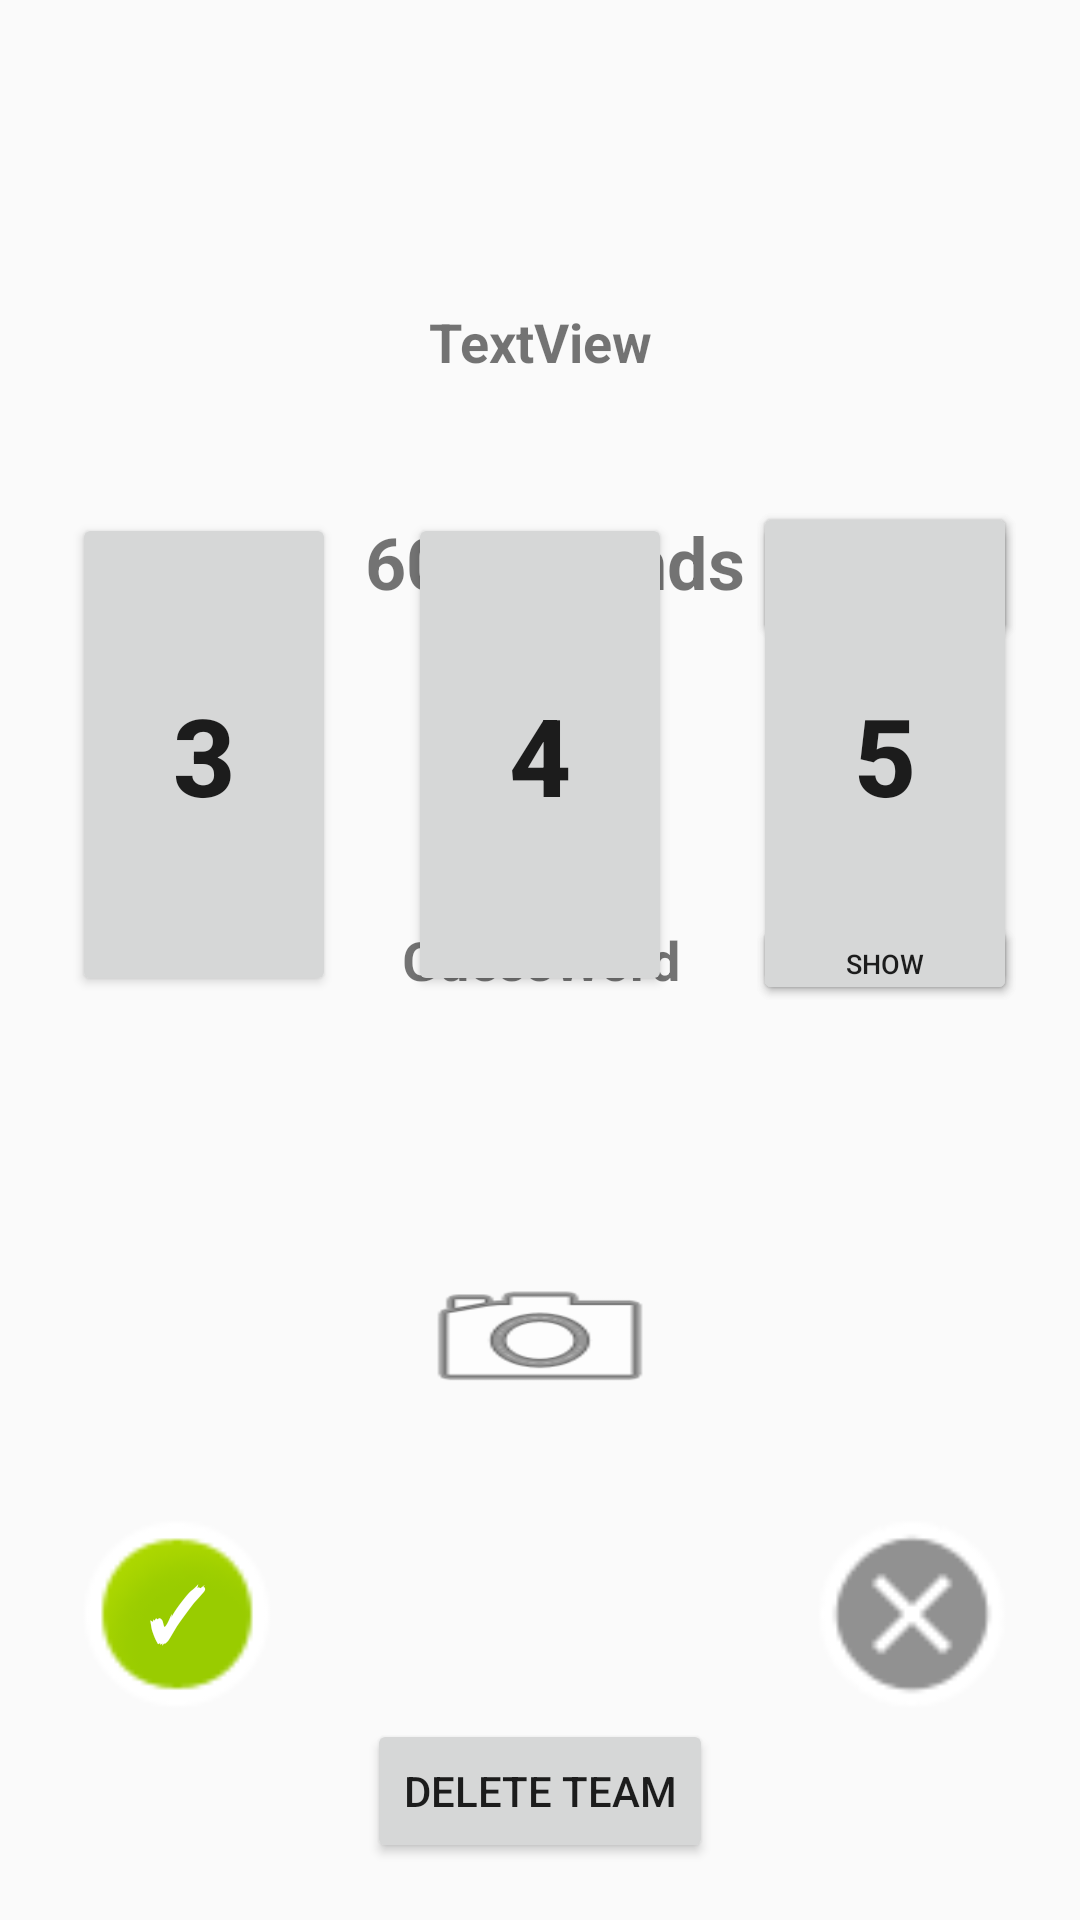

Named icons in this screenshot (1080 × 1920) and their bounding boxes, BBox(x1, y1, x2, y2):
camera: BBox(438, 1291, 642, 1380)
presence offline: BBox(836, 1538, 988, 1691)
